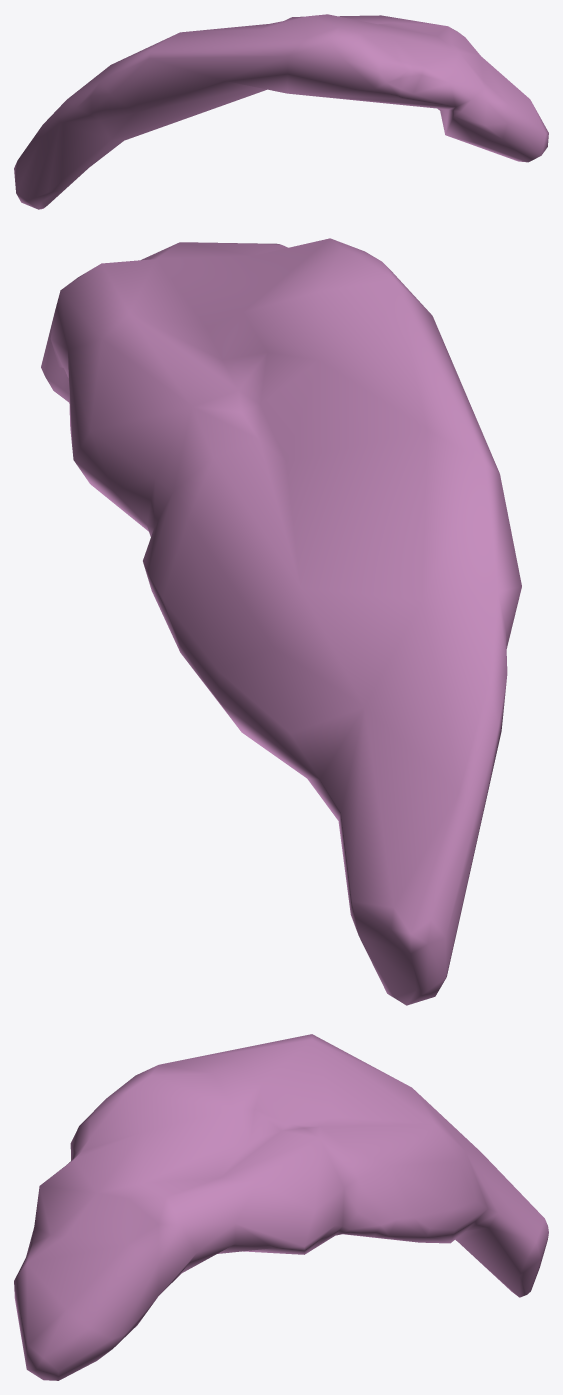
The picture shows the model from 3 angles, top to bottom: view 1: azimuth 30°, elevation 25°; view 2: azimuth 150°, elevation 25°; view 3: azimuth 270°, elevation 25°; orthographic projection. The views are drawn at different scales.
Visible parts, largest first — view 1: 左侧精囊; view 2: 左侧精囊; view 3: 左侧精囊.
Boxes of the visible parts, x1=… form: 左侧精囊: x1=14, y1=14, x2=548, y2=209; 左侧精囊: x1=41, y1=238, x2=521, y2=1005; 左侧精囊: x1=14, y1=1034, x2=548, y2=1380.
Bounding box in the file's own units: 0.0485 × 0.0309 × 0.045.
